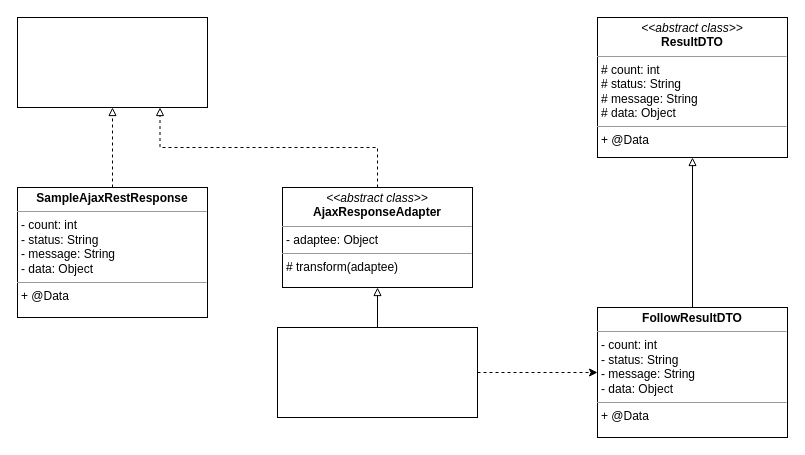
Image size: 805x455. Some labels were removed from this diagram. The shapes that lost their labels are listed below. From the top down, each one's centre as x and y in pixels, then its label:
At point 112,62: "<<interface>> AjaxResponse".
At point 377,372: "FollowAjaxRestResponseAdapter + field: Type + method(): Type".
